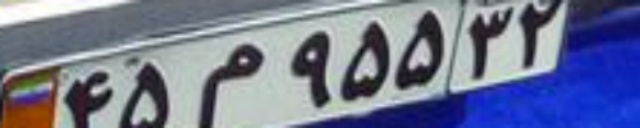2: (517, 1, 564, 69)
3: (470, 6, 512, 78)
4: (63, 70, 111, 127)
5: (117, 61, 175, 127), (342, 19, 389, 100), (395, 9, 441, 89)
9: (289, 29, 330, 107)
mim: (197, 42, 266, 127)
